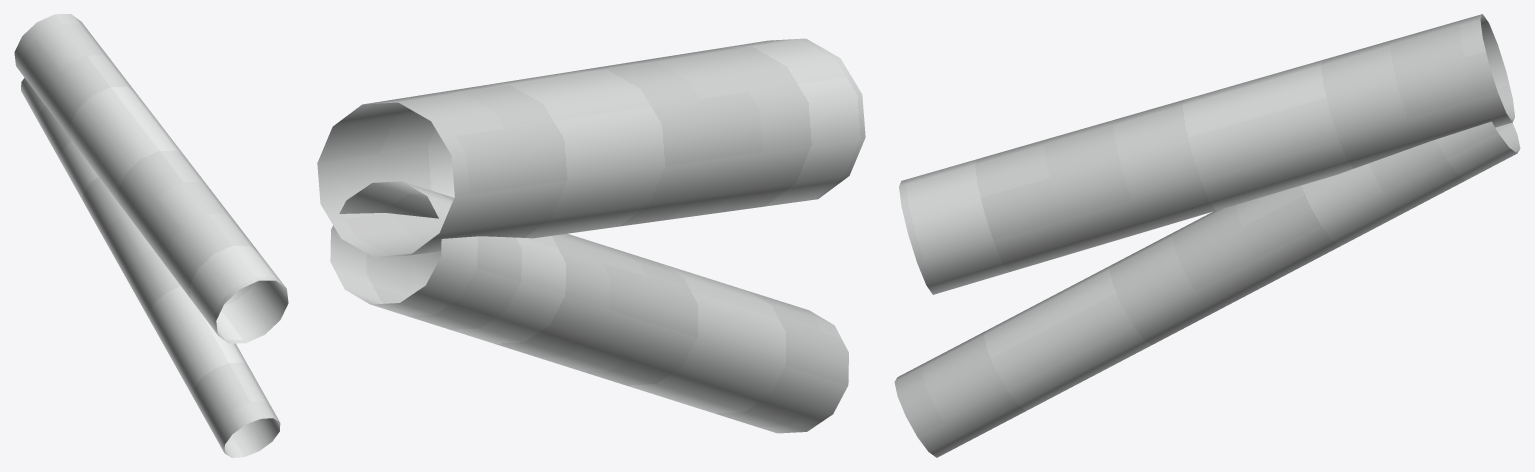
File: luminairearm_truss12ftstraight_c5.obj
3 renders of one model, left to right at view 1: azimuth 30°, elevation 25°; view 2: azimuth 150°, elevation 25°; view 3: azimuth 270°, elevation 25°, orthographic. The views are drawn at different scales.
Visible parts, largest first — view 1: luminairearm_truss12ftstraight_c5; view 2: luminairearm_truss12ftstraight_c5; view 3: luminairearm_truss12ftstraight_c5.
Boxes of the visible parts, left/top/right/bottom form: luminairearm_truss12ftstraight_c5: left=14, top=14, right=288, bottom=457; luminairearm_truss12ftstraight_c5: left=317, top=38, right=865, bottom=433; luminairearm_truss12ftstraight_c5: left=894, top=14, right=1520, bottom=457.
Size of the model in its own units: 0.205 by 0.8243 by 1.08.
